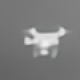plane: (22, 25, 71, 61)
